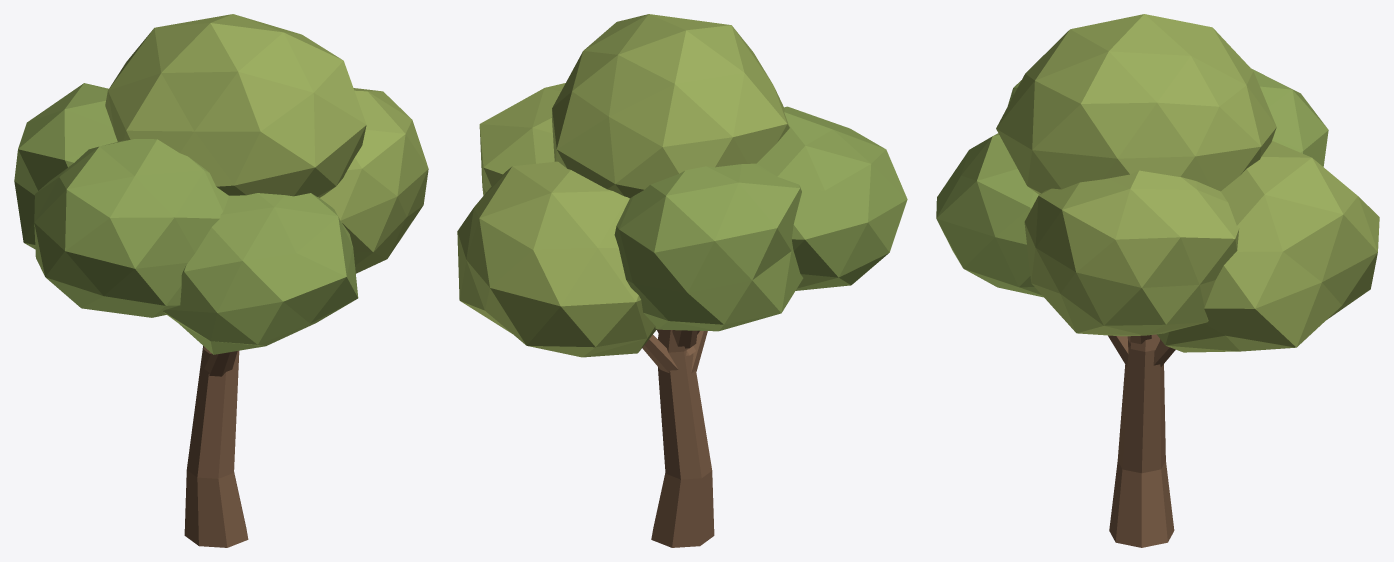
File: Oak_Large.fbx
3 views of the same model, side by side, from view 1: azimuth 30°, elevation 25°; view 2: azimuth 150°, elevation 25°; view 3: azimuth 270°, elevation 25° (orthographic).
Visible parts, largest first — view 1: Oak_Large; view 2: Oak_Large; view 3: Oak_Large.
Part boxes in pixels (x1,y1,x2,y2): Oak_Large: (14, 14, 428, 547); Oak_Large: (457, 14, 907, 547); Oak_Large: (936, 14, 1379, 547).
Bounding box in the file's own units: 474 × 595 × 462.
